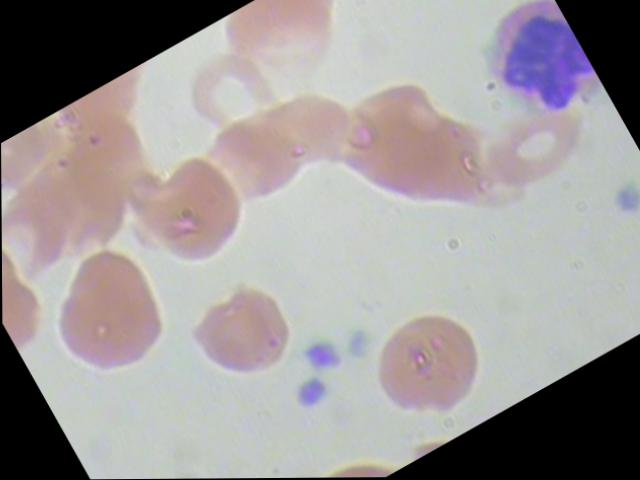Platelets: (286, 366, 341, 420), (335, 320, 384, 369), (298, 329, 346, 379), (599, 171, 639, 226)
Red Blood Cells: (30, 232, 191, 394), (118, 136, 279, 298), (351, 295, 502, 441), (173, 269, 308, 402), (470, 95, 604, 213), (171, 37, 293, 156), (197, 98, 318, 217), (1, 180, 90, 300)
White Blood Cells: (464, 0, 609, 142)
